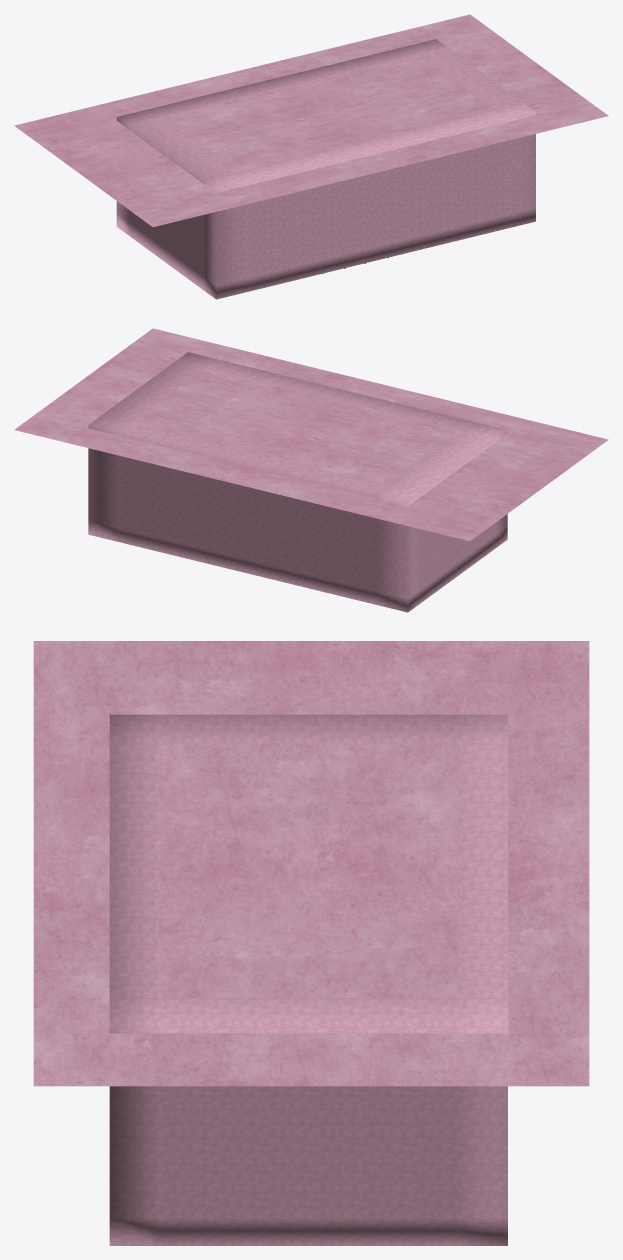
File: temp_krik_temp_texture.glb
3 views of the same model, one above another, from view 1: azimuth 30°, elevation 25°; view 2: azimuth 150°, elevation 25°; view 3: azimuth 270°, elevation 25° (orthographic). The views are drawn at different scales.
Parts seen in each view (by area): view 1: roof, room; view 2: roof, room; view 3: roof, room.
Part boxes in pixels (bbox=[...]): roof: bbox=[14, 14, 608, 227]; room: bbox=[116, 39, 535, 299]; roof: bbox=[14, 328, 608, 541]; room: bbox=[88, 352, 507, 612]; roof: bbox=[33, 641, 589, 1086]; room: bbox=[109, 714, 507, 1245].
Size of the model in its own units: 30.39 by 8.06 by 16.03.
Materials: 26 (9 with a texture image).
